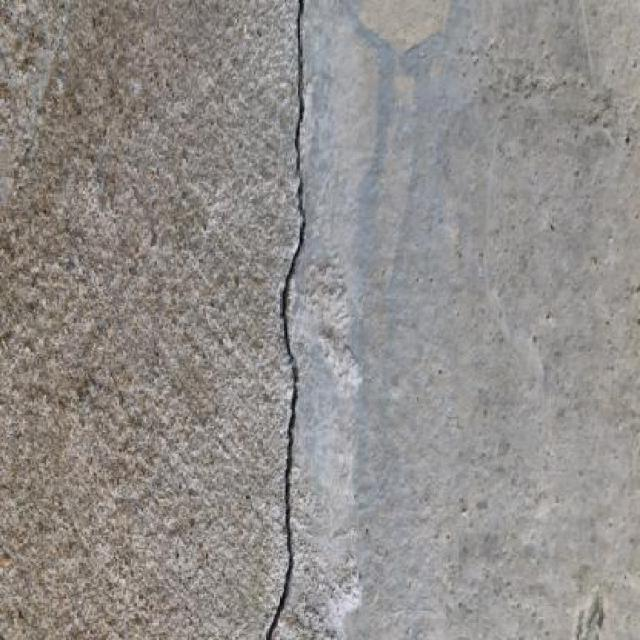Crack: (338, 0, 462, 288), (261, 0, 309, 639), (4, 4, 82, 226)
